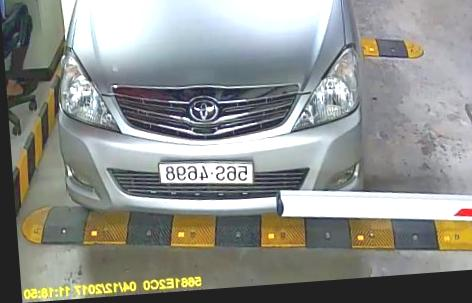License_Plate: (155, 154, 255, 189)
